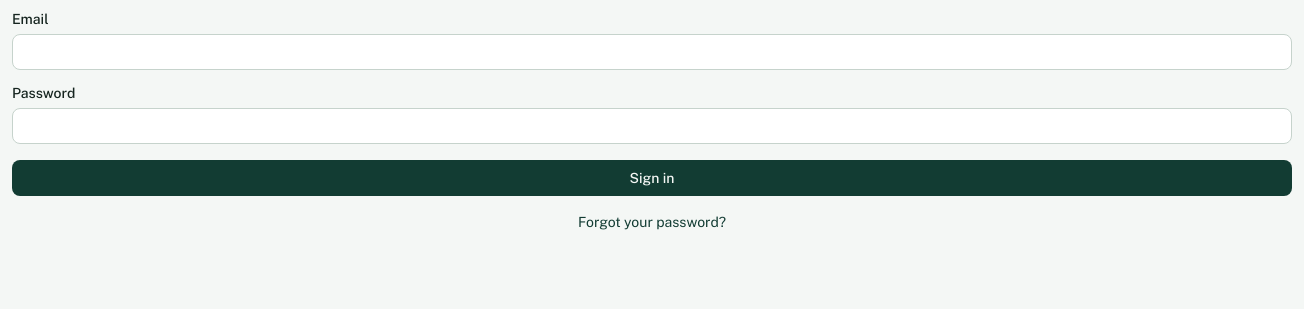
Test: LoginForm › submits the form data, including the next path, and shows a generic error
In the field labelled "Email": (652, 52) [12, 34, 1292, 70], type "me@example.com"
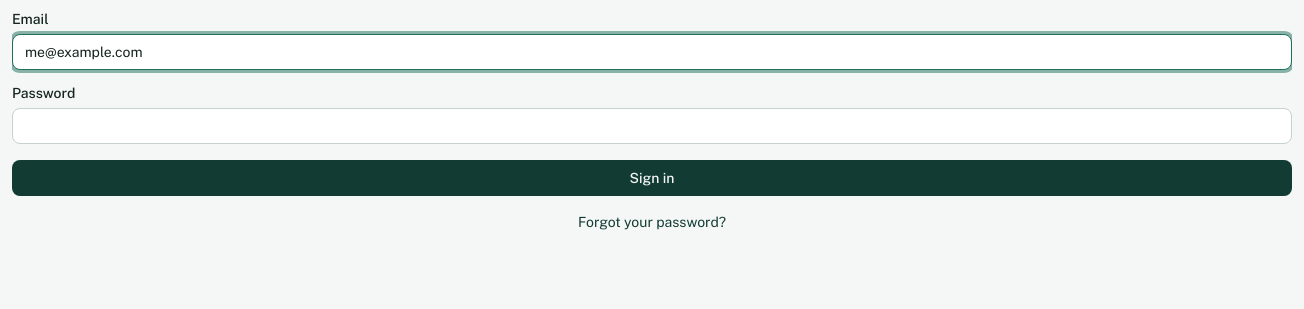
In the password field labelled "Password": (652, 126) [12, 108, 1292, 144], type "secret"
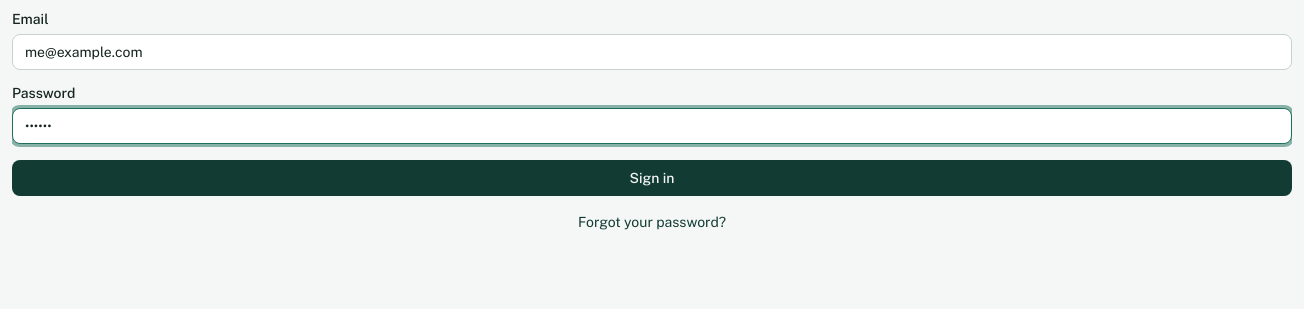
Click the button "Sign in": (652, 178) [12, 160, 1292, 196]
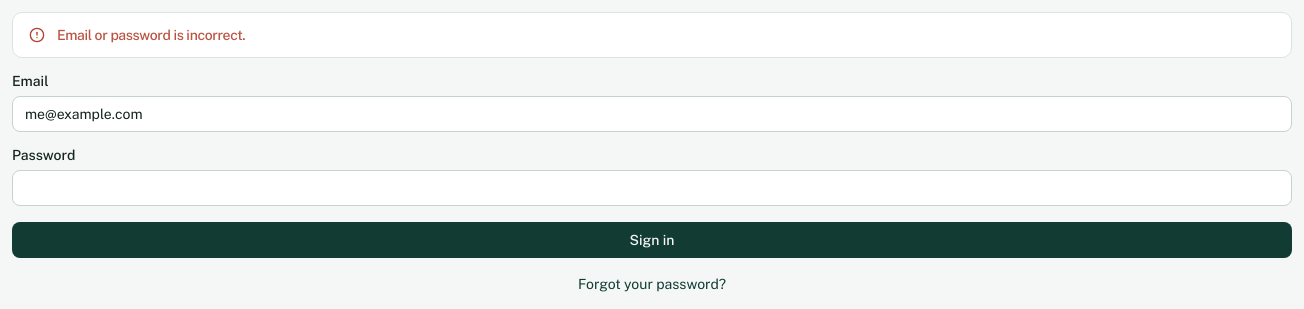
expect the message reads "Email or password is incorrect.": met, box [57, 27, 245, 43]
